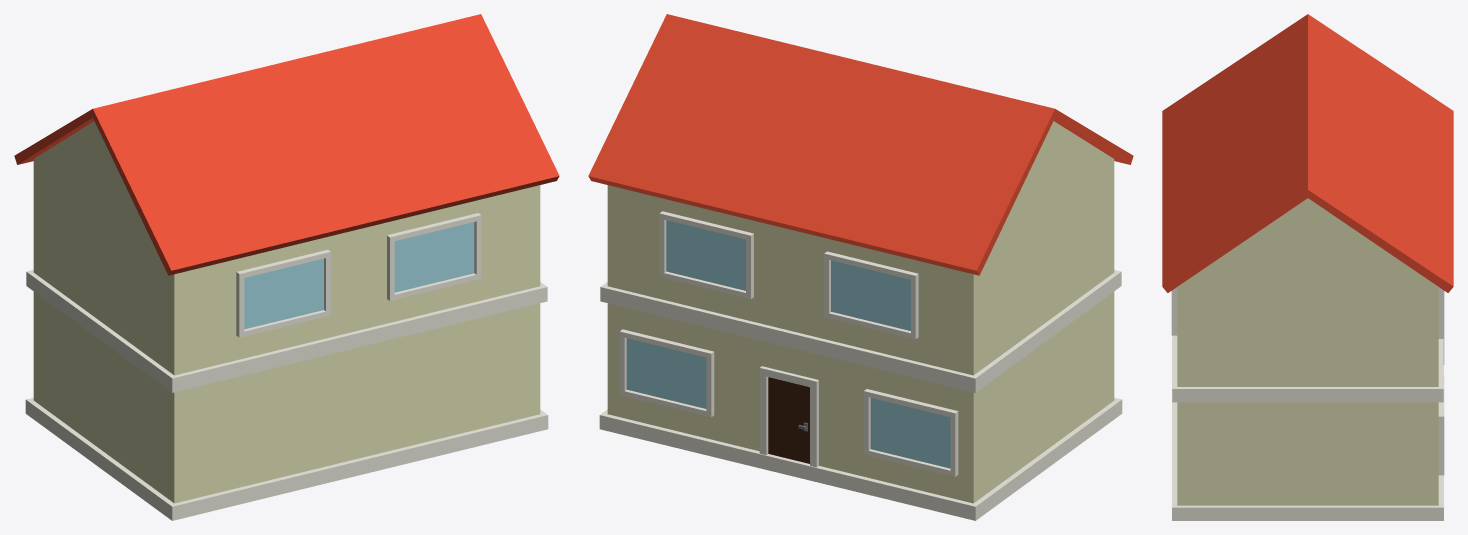
3 views of the same model, side by side, from view 1: azimuth 30°, elevation 25°; view 2: azimuth 150°, elevation 25°; view 3: azimuth 270°, elevation 25° (orthographic). The views are drawn at different scales.
Visible parts, largest first — view 1: Rect-2; view 2: Rect-2; view 3: Rect-2.
Boxes of the visible parts, x1,y1,x2,y2 form: Rect-2: (14, 14, 559, 520); Rect-2: (588, 14, 1133, 520); Rect-2: (1162, 14, 1453, 520).
Bounding box in the file's own units: 10.58 × 9.37 × 7.42.
